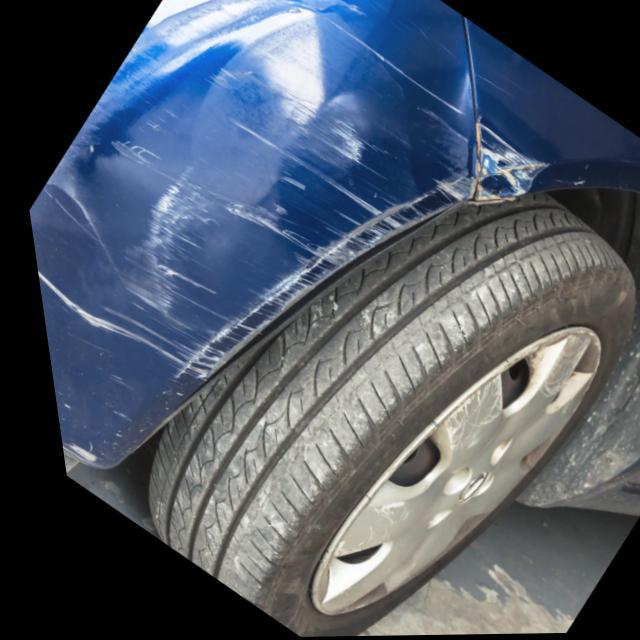scratch: (27, 0, 474, 382), (468, 118, 543, 202)
